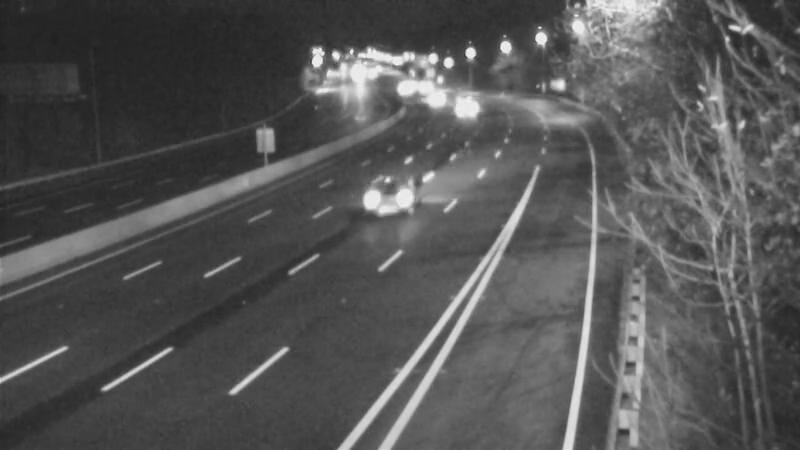vehicle: (356, 158, 436, 238), (409, 71, 459, 121), (433, 73, 483, 123), (442, 83, 492, 133)
